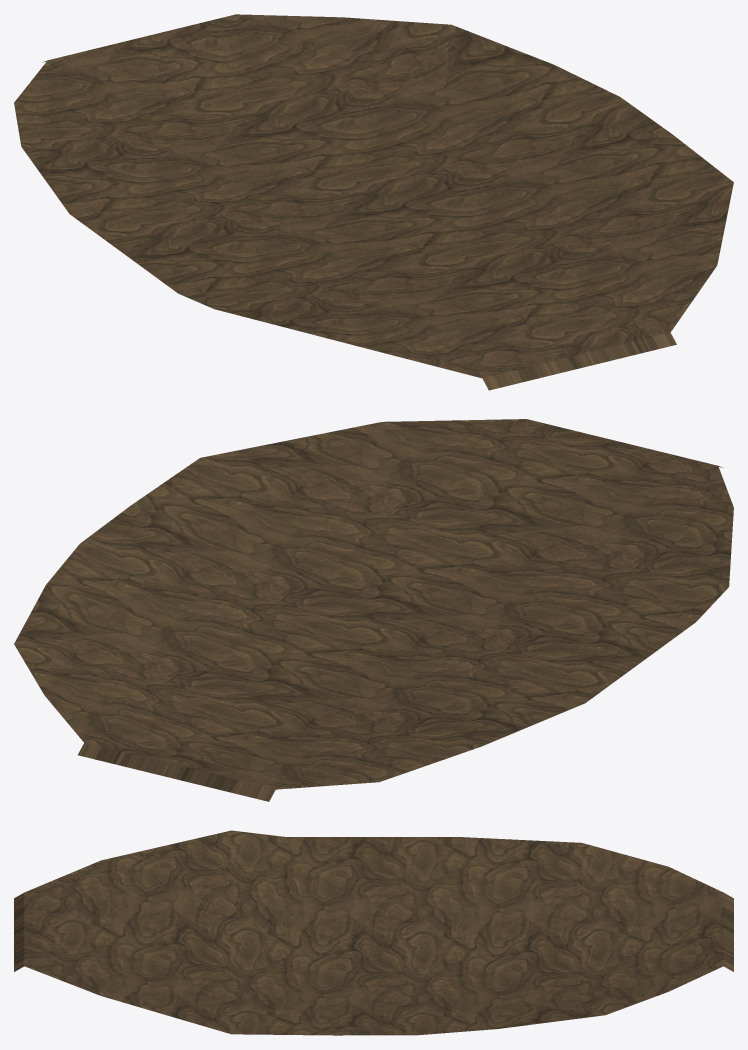
Rendered from cave floor large.FBX.
3 renders of one model, top to bottom at view 1: azimuth 30°, elevation 25°; view 2: azimuth 150°, elevation 25°; view 3: azimuth 270°, elevation 25°, orthographic. The views are drawn at different scales.
Visible parts, largest first — view 1: cave floor large; view 2: cave floor large; view 3: cave floor large.
Part boxes in pixels (box(x1,y1,x2,y2)): cave floor large: box(14, 14, 733, 390); cave floor large: box(14, 419, 733, 801); cave floor large: box(14, 830, 733, 1035).
Bounding box in the file's own units: 55.73 × 2.09 × 82.39.
